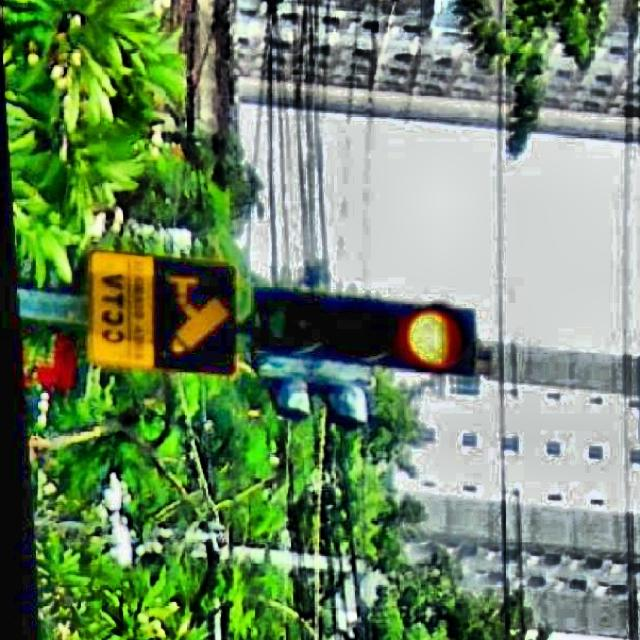red: (234, 294, 474, 371)
